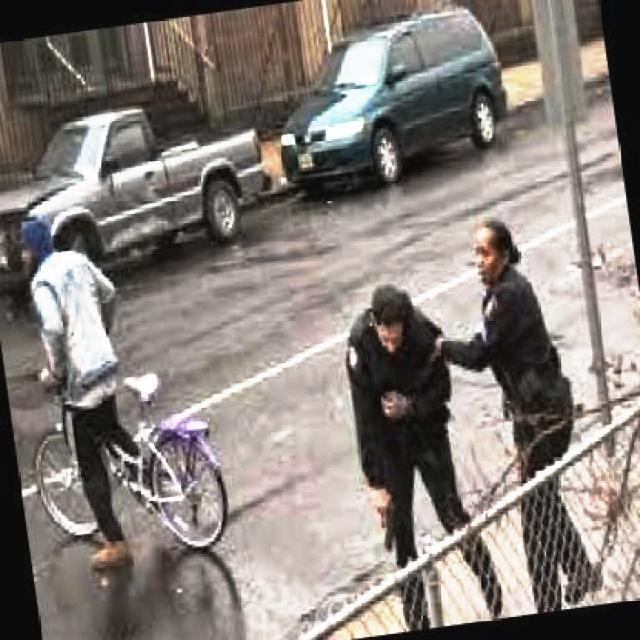Gun: (368, 488, 405, 555)
